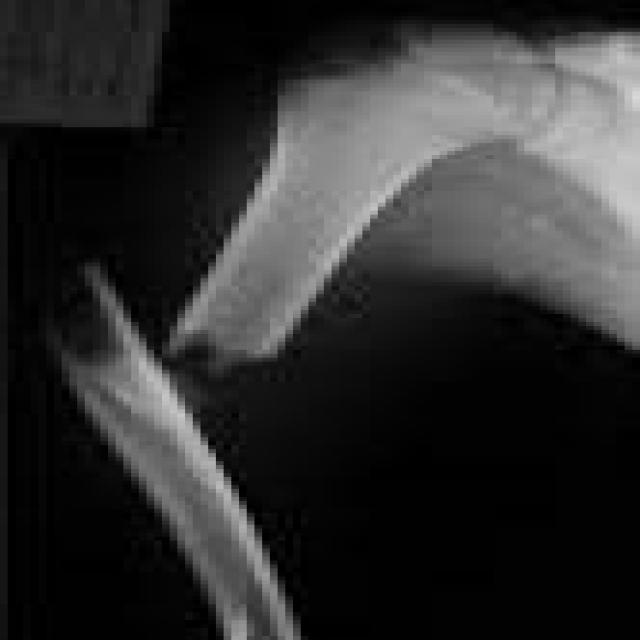Broken: (42, 295, 309, 640), (167, 107, 462, 357)
